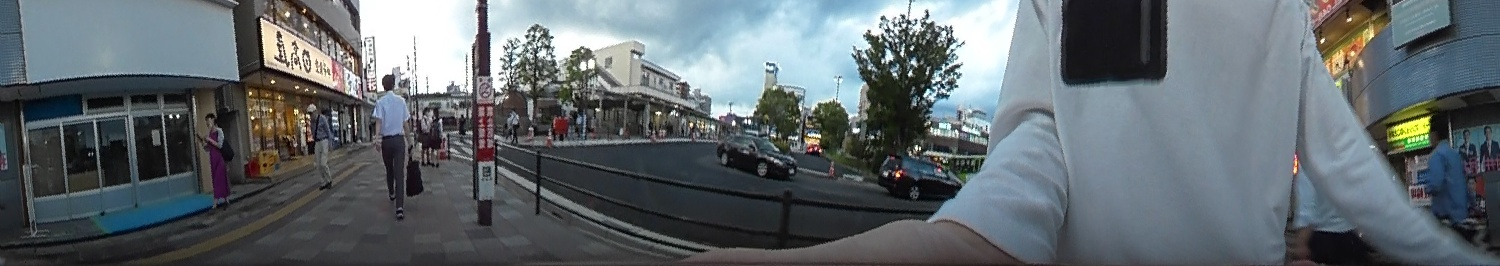difficult_person: (454, 111, 471, 142), (509, 106, 522, 143)
person: (364, 72, 424, 219), (1419, 115, 1480, 243), (196, 106, 238, 212), (299, 98, 341, 194), (412, 102, 433, 167), (426, 102, 447, 164)
